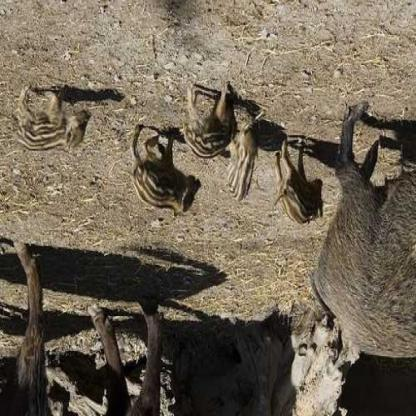boar: (7, 69, 104, 166), (111, 142, 211, 217), (178, 72, 248, 167), (273, 146, 337, 249), (215, 124, 278, 213)
